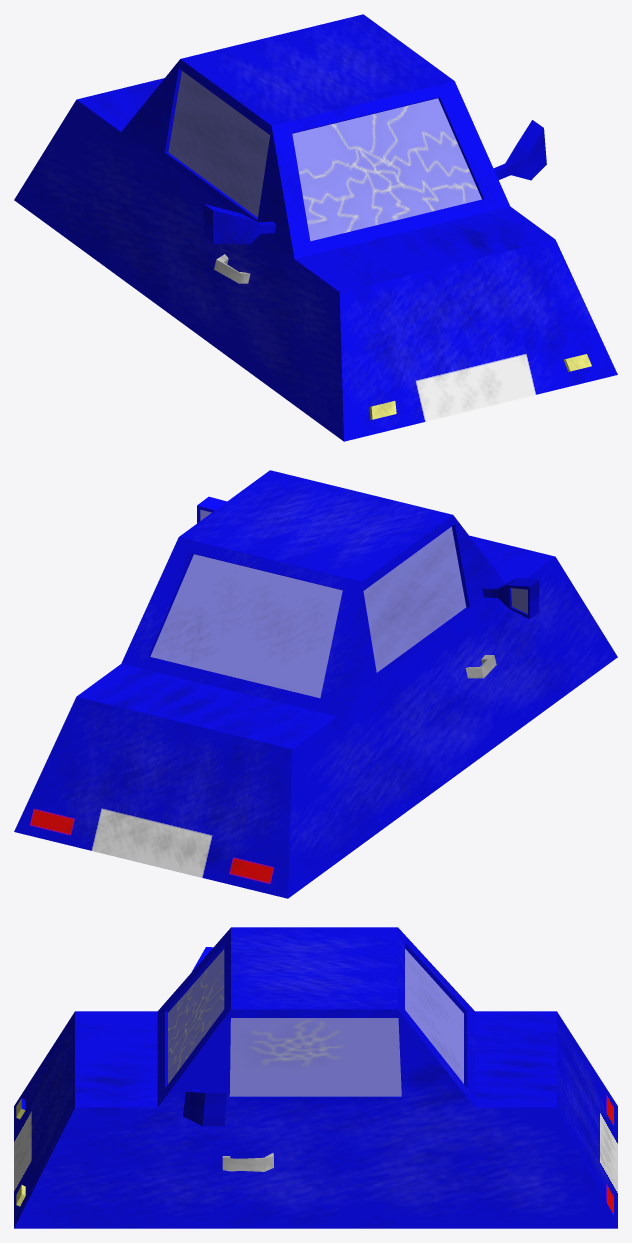
Rendered from car_baes_v2.fbx.
3 views of the same model, one above another, from view 1: azimuth 30°, elevation 25°; view 2: azimuth 150°, elevation 25°; view 3: azimuth 270°, elevation 25° (orthographic). The views are drawn at different scales.
Parts seen in each view (by area): view 1: car_base; view 2: car_base; view 3: car_base.
Part boxes in pixels (box(x1,y1,x2,y2)): car_base: box(14, 14, 617, 441); car_base: box(14, 470, 617, 898); car_base: box(14, 927, 617, 1228).
Size of the model in its own units: 407 by 255 by 701.
1 material, 1 textured.
